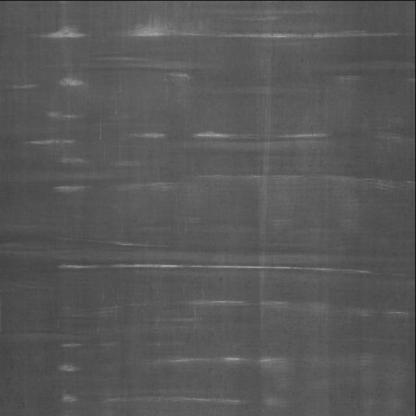waist_folding: (36, 17, 363, 377)
